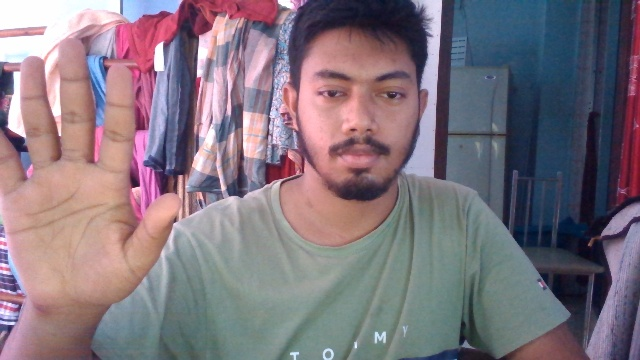hello: (1, 37, 182, 326)
